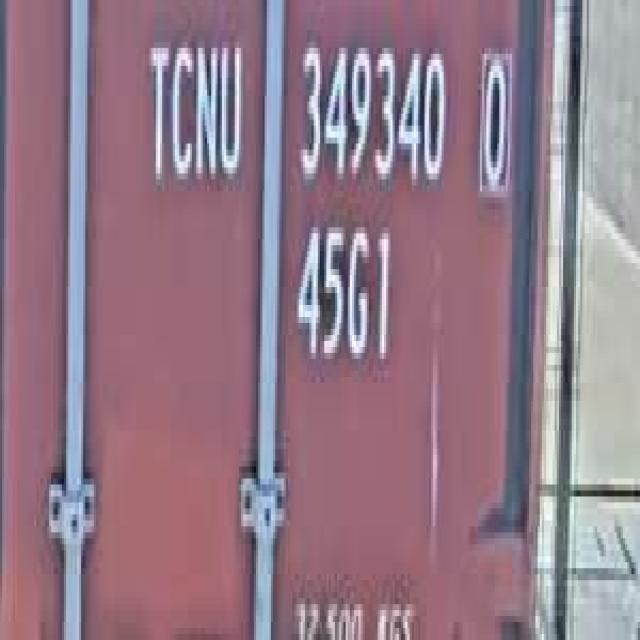dv: (474, 36, 514, 203)
owner: (143, 24, 245, 197)
serial: (292, 24, 452, 197)
size: (290, 209, 397, 383)
